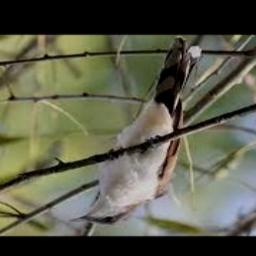Cuckoo: (69, 35, 203, 225)
